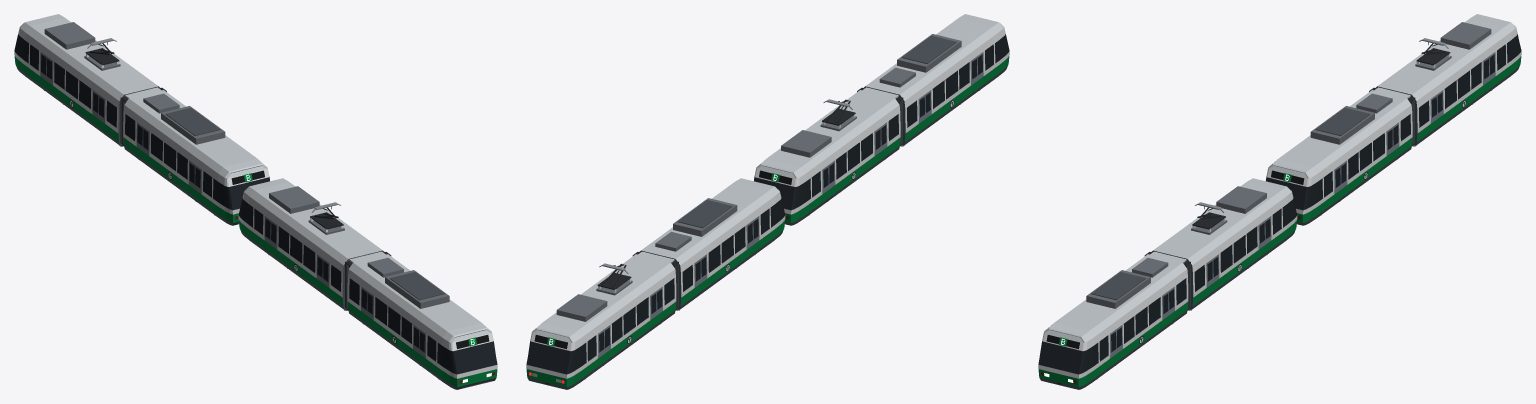
The model's file is mbta-green-line-train.glb.
The picture shows the model from 3 angles, left to right: view 1: azimuth 30°, elevation 25°; view 2: azimuth 150°, elevation 25°; view 3: azimuth 330°, elevation 25°; orthographic projection.
Parts seen in each view (by area): view 1: mbta-green-line-train; view 2: mbta-green-line-train; view 3: mbta-green-line-train.
Boxes of the visible parts, left/top/right/bottom form: mbta-green-line-train: left=14, top=14, right=497, bottom=389; mbta-green-line-train: left=526, top=14, right=1009, bottom=389; mbta-green-line-train: left=1038, top=14, right=1521, bottom=389.
Bounding box in the file's own units: 2.72 × 4.36 × 45.01.
